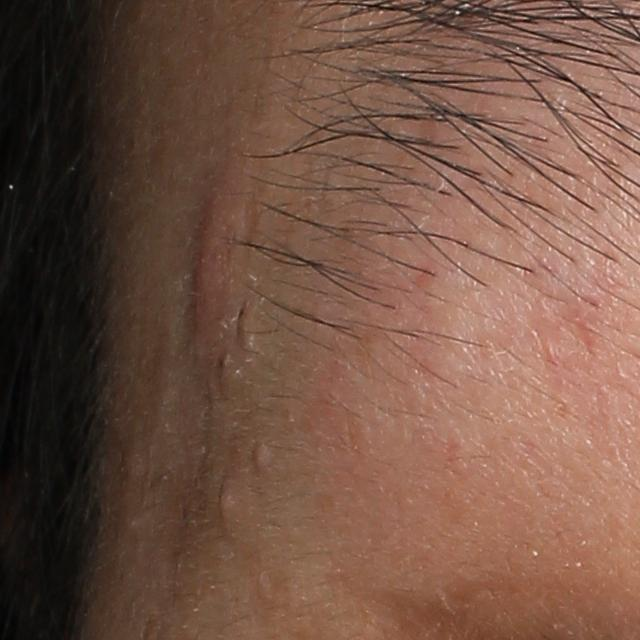comedo: (213, 476, 241, 530), (248, 440, 275, 473)
